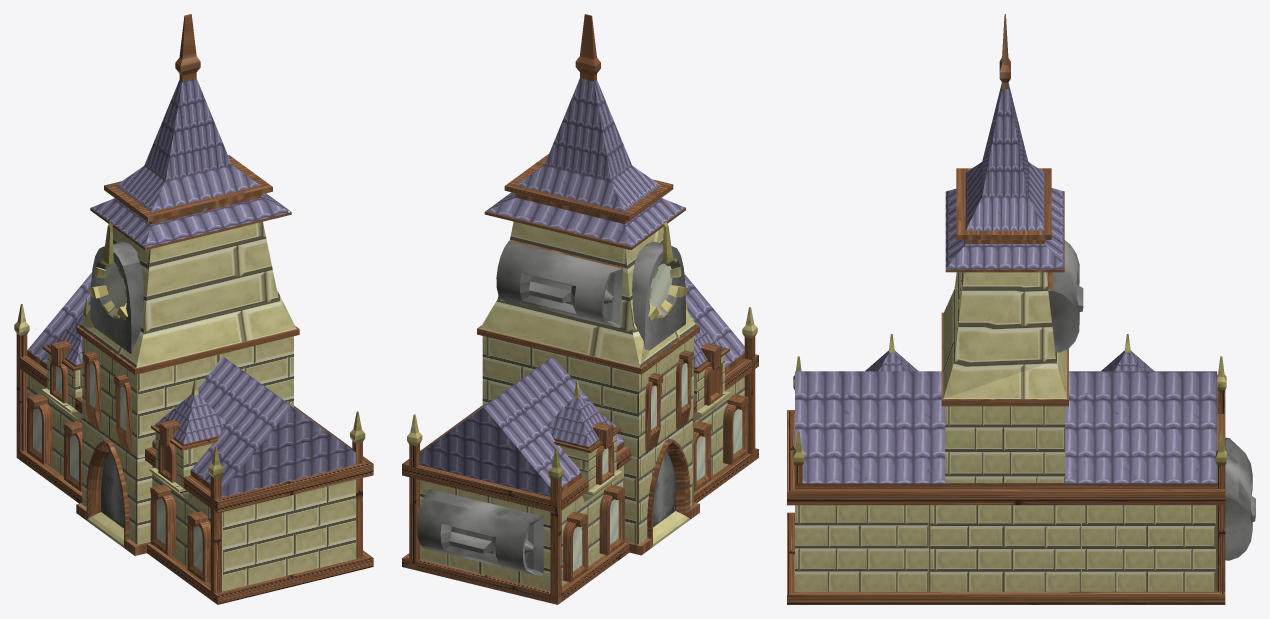
File: Town Hall (1).FBX
The picture shows the model from 3 angles, left to right: view 1: azimuth 30°, elevation 25°; view 2: azimuth 150°, elevation 25°; view 3: azimuth 270°, elevation 25°; orthographic projection. The views are drawn at different scales.
Visible parts, largest first — view 1: ground window two; view 2: ground window two; view 3: ground window two.
Boxes of the visible parts, <box> form: ground window two: <box>14,14,373,604</box>; ground window two: <box>402,14,758,604</box>; ground window two: <box>787,14,1255,604</box>.
Bounding box in the file's own units: 38.06 × 105 × 82.19.
Materials: 1 (1 with a texture image).
